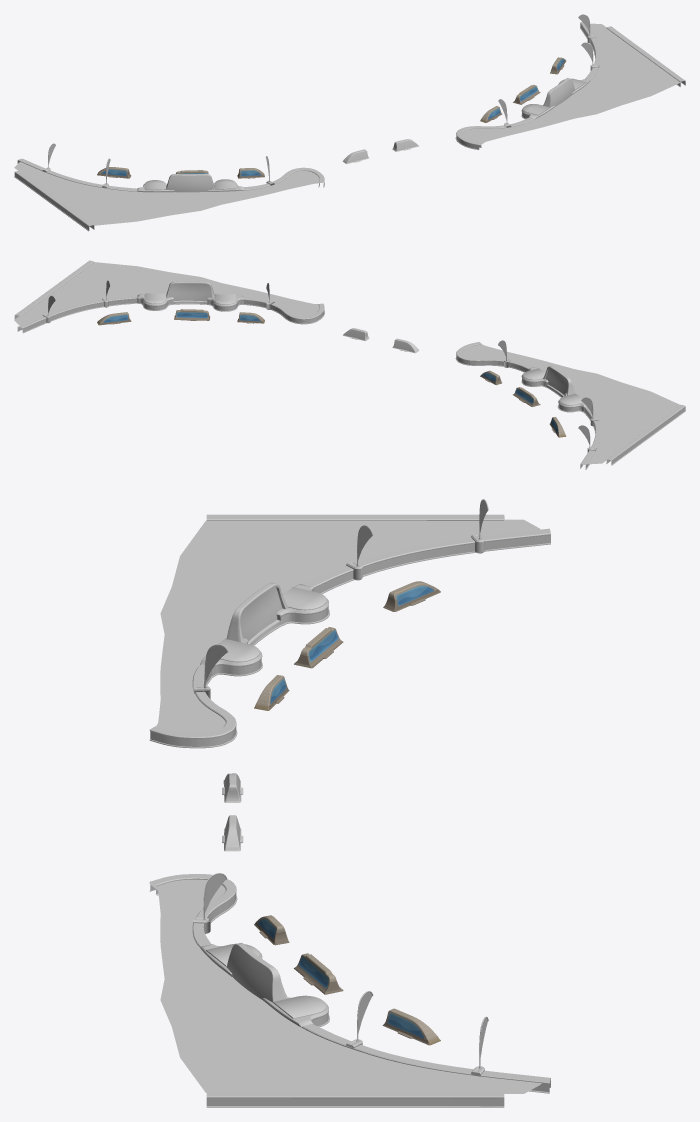
Rendered from pref_Area_Top_Forest_beta_01_lv3.fbx.
3 renders of one model, top to bottom at view 1: azimuth 30°, elevation 25°; view 2: azimuth 150°, elevation 25°; view 3: azimuth 270°, elevation 25°, orthographic. The views are drawn at different scales.
Parts seen in each view (by area): view 1: sm_beach_techfield_a_mirror_lv3, sm_beach_techfield_a_lv3, sm_beach_techfield_b_mirror_lv3, sm_beach_techfield_b_lv3, sm_beach_techfield_d_lv3; view 2: sm_beach_techfield_a_mirror_lv3, sm_beach_techfield_a_lv3, sm_beach_techfield_b_lv3, sm_beach_techfield_b_mirror_lv3, pref_sm_beach_techled01a_lv3, sm_beach_techfield_d_mirror_lv3, pref_sm_beach_techobstacle07a_lv3 (3), pref_sm_beach_techled01a_mirror_lv3, sm_beach_techfield_d_lv3; view 3: sm_beach_techfield_a_lv3, sm_beach_techfield_a_mirror_lv3, sm_beach_techfield_b_lv3, sm_beach_techfield_b_mirror_lv3, sm_beach_techfield_d_mirror_lv3, sm_beach_techfield_d_lv3, pref_sm_beach_techled01a_mirror_lv3, pref_sm_beach_techobstacle07b_lv3 (7), pref_sm_beach_techobstacle07a_lv3 (3), pref_sm_beach_techobstacle07a_lv3 (4), pref_sm_beach_techobstacle07b_lv3 (9).
Boxes of the visible parts, box(x1,y1,x2,y2) form: sm_beach_techfield_a_mirror_lv3: box(14, 162, 322, 225); sm_beach_techfield_a_lv3: box(462, 23, 680, 145); sm_beach_techfield_b_mirror_lv3: box(14, 158, 324, 231); sm_beach_techfield_b_lv3: box(455, 22, 685, 149); sm_beach_techfield_d_lv3: box(498, 14, 599, 127); sm_beach_techfield_a_mirror_lv3: box(462, 344, 679, 464); sm_beach_techfield_a_lv3: box(14, 262, 319, 325); sm_beach_techfield_b_lv3: box(14, 260, 324, 333); sm_beach_techfield_b_mirror_lv3: box(455, 342, 685, 469); pref_sm_beach_techled01a_lv3: box(169, 283, 211, 301); sm_beach_techfield_d_mirror_lv3: box(498, 340, 599, 452); pref_sm_beach_techobstacle07a_lv3 (3): box(174, 309, 210, 320); pref_sm_beach_techled01a_mirror_lv3: box(545, 368, 567, 394); sm_beach_techfield_d_lv3: box(42, 280, 274, 323); sm_beach_techfield_a_lv3: box(149, 879, 541, 1093); sm_beach_techfield_a_mirror_lv3: box(156, 519, 540, 733); sm_beach_techfield_b_lv3: box(149, 874, 550, 1107); sm_beach_techfield_b_mirror_lv3: box(149, 514, 550, 748); sm_beach_techfield_d_mirror_lv3: box(193, 499, 488, 698); sm_beach_techfield_d_lv3: box(193, 873, 488, 1076); pref_sm_beach_techled01a_mirror_lv3: box(241, 587, 282, 641); pref_sm_beach_techobstacle07b_lv3 (7): box(382, 1008, 440, 1045); pref_sm_beach_techobstacle07a_lv3 (3): box(294, 953, 343, 994); pref_sm_beach_techobstacle07a_lv3 (4): box(294, 627, 343, 668); pref_sm_beach_techobstacle07b_lv3 (9): box(383, 581, 440, 611).
Bounding box in the file's own units: 138 × 6.35 × 40.13.
